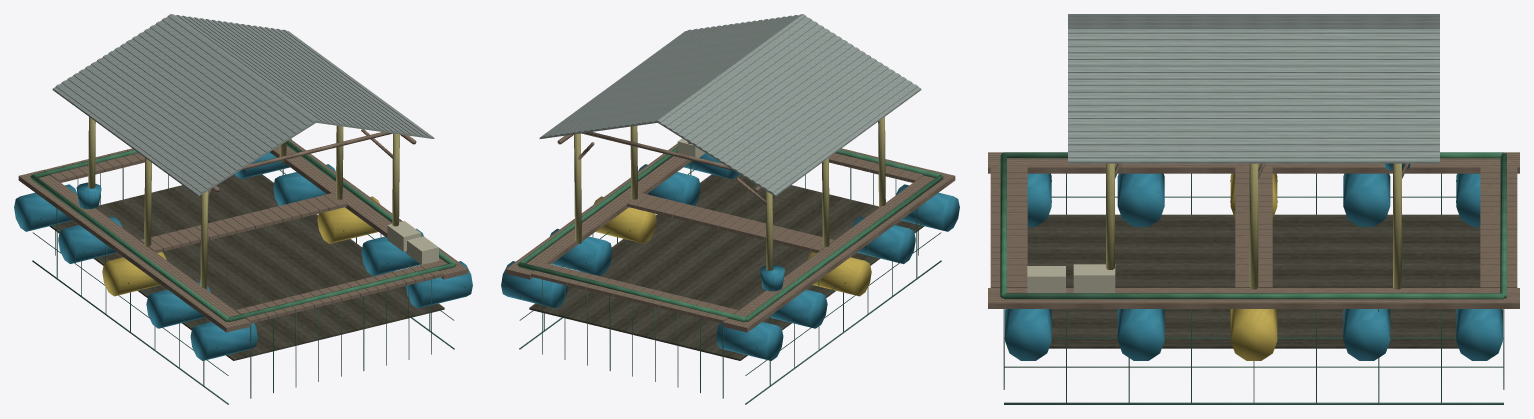
The model's file is bung-raft-1-grey.glb.
3 views of the same model, side by side, from view 1: azimuth 30°, elevation 25°; view 2: azimuth 150°, elevation 25°; view 3: azimuth 270°, elevation 25° (orthographic). The views are drawn at different scales.
Visible parts, largest first — view 1: bung-raft-1-grey; view 2: bung-raft-1-grey; view 3: bung-raft-1-grey.
Boxes of the visible parts, bbox=[...] form: bung-raft-1-grey: bbox=[14, 14, 472, 404]; bung-raft-1-grey: bbox=[501, 14, 959, 404]; bung-raft-1-grey: bbox=[988, 14, 1519, 404].
Bounding box in the file's own units: 4.84 × 4.18 × 6.6.
1 material, 1 textured.
